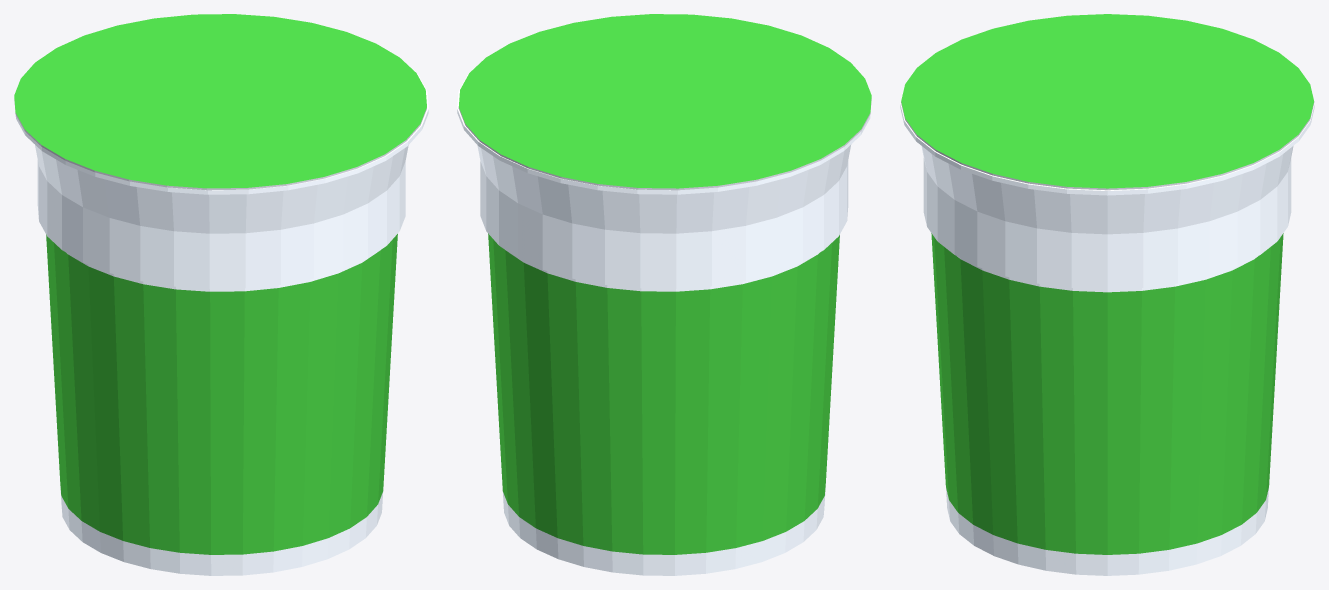
File: potNoodle_Anim.glb
3 renders of one model, left to right at view 1: azimuth 30°, elevation 25°; view 2: azimuth 150°, elevation 25°; view 3: azimuth 270°, elevation 25°, orthographic.
Parts seen in each view (by area): view 1: Pot, Lid; view 2: Pot, Lid; view 3: Pot, Lid.
Part boxes in pixels (bbox=[...]): Pot: bbox=[15, 74, 428, 575]; Lid: bbox=[14, 14, 426, 190]; Pot: bbox=[457, 74, 871, 575]; Lid: bbox=[458, 14, 871, 190]; Pot: bbox=[900, 86, 1314, 575]; Lid: bbox=[901, 14, 1314, 190].
Bounding box in the file's own units: 2.59 × 2.8 × 2.58.
